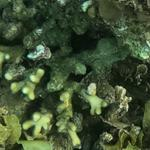dead: (1, 1, 142, 143)
